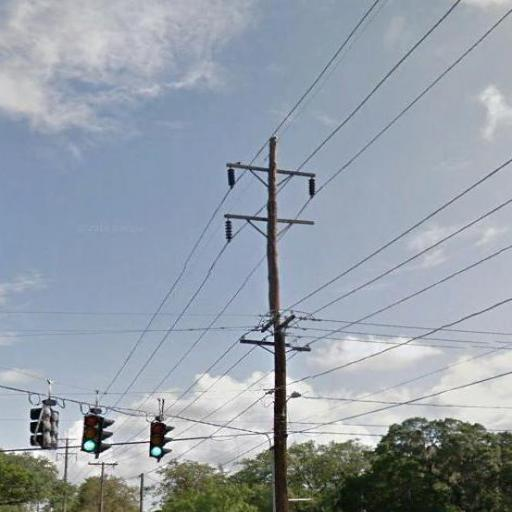mono_8: (223, 134, 321, 511)
